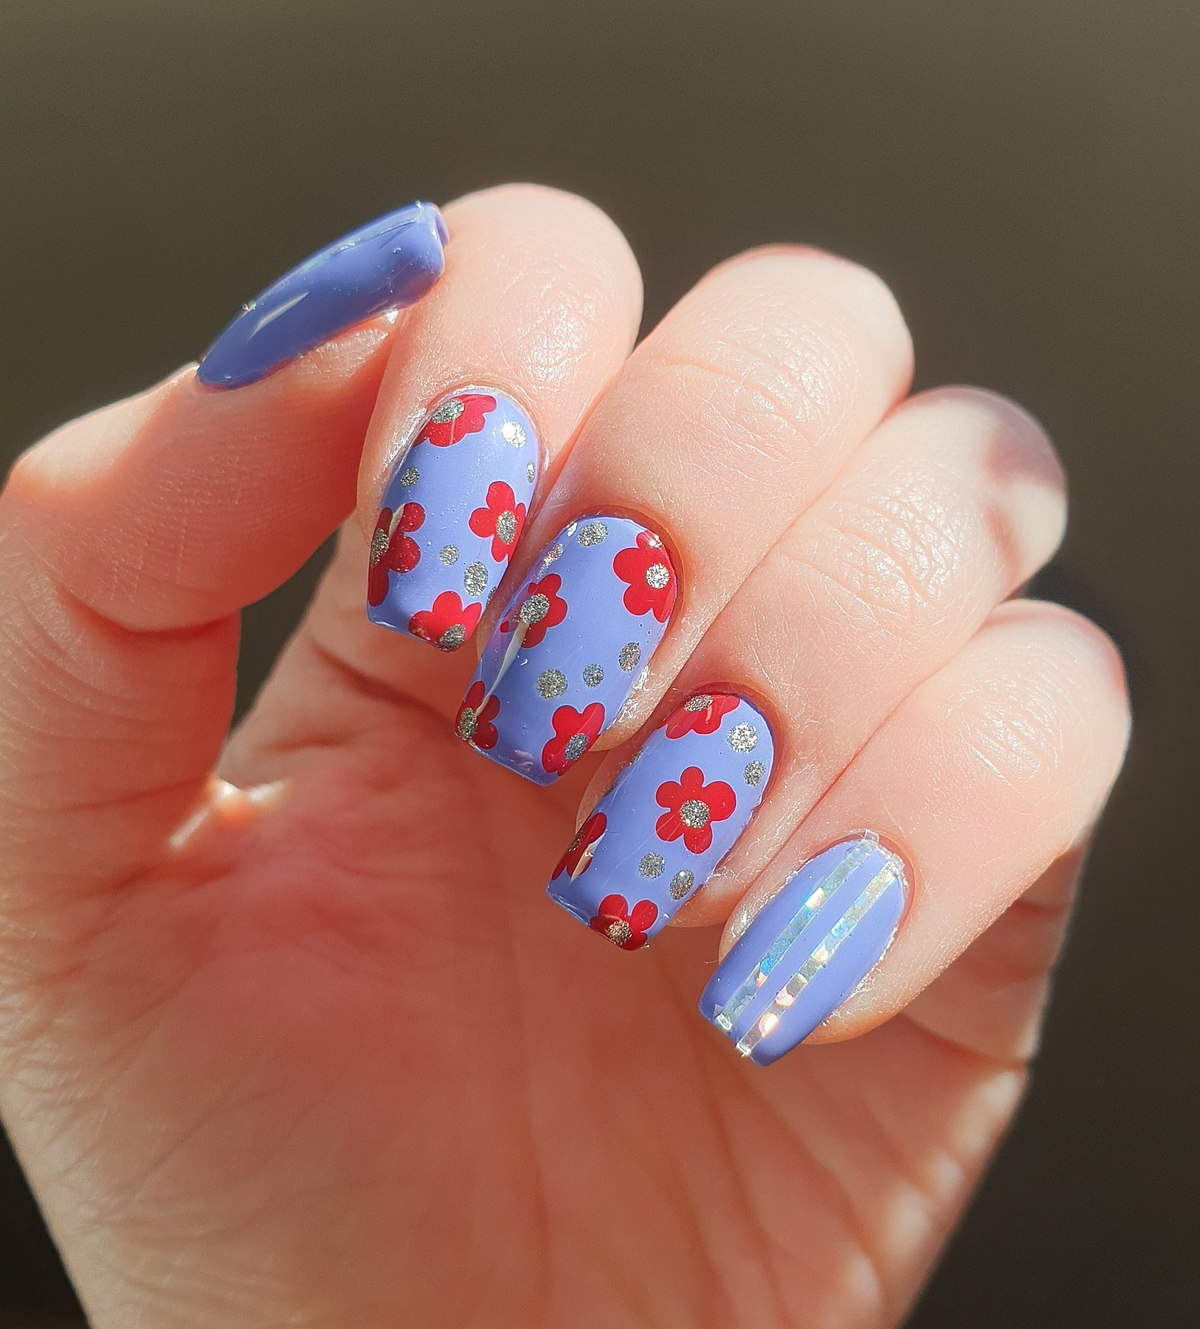nails: (551, 680, 798, 959), (456, 506, 680, 790), (178, 191, 449, 398), (695, 829, 912, 1070), (362, 377, 549, 651)
